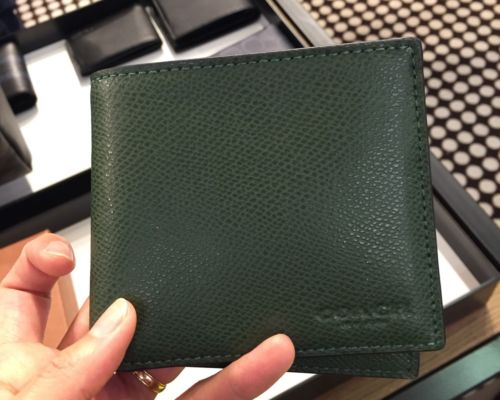monedero: (87, 36, 449, 383)
